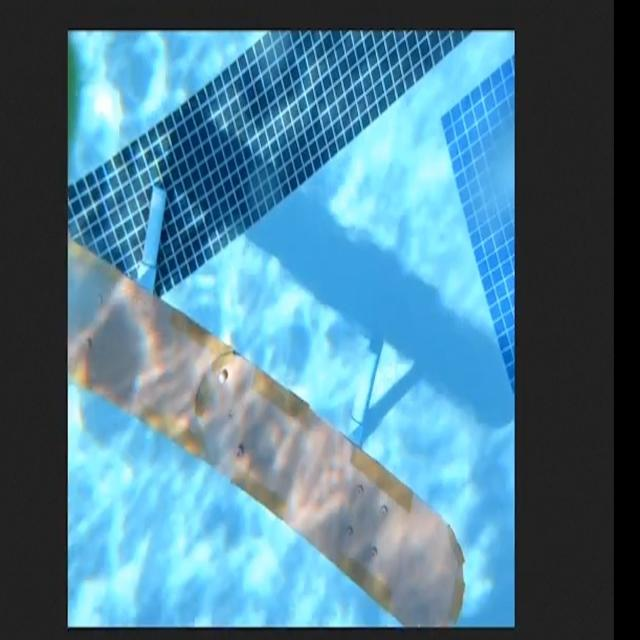Path: (69, 230, 469, 626)
